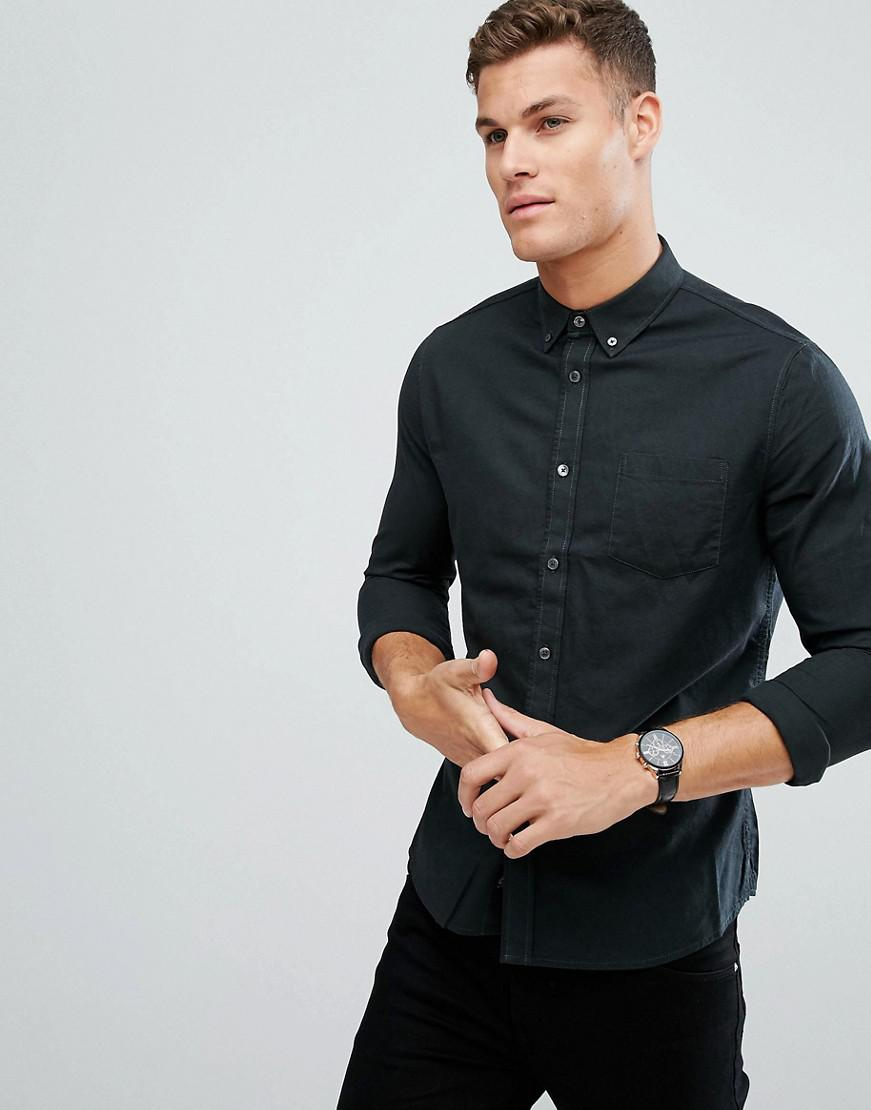teeshirt: (349, 239, 871, 990)
